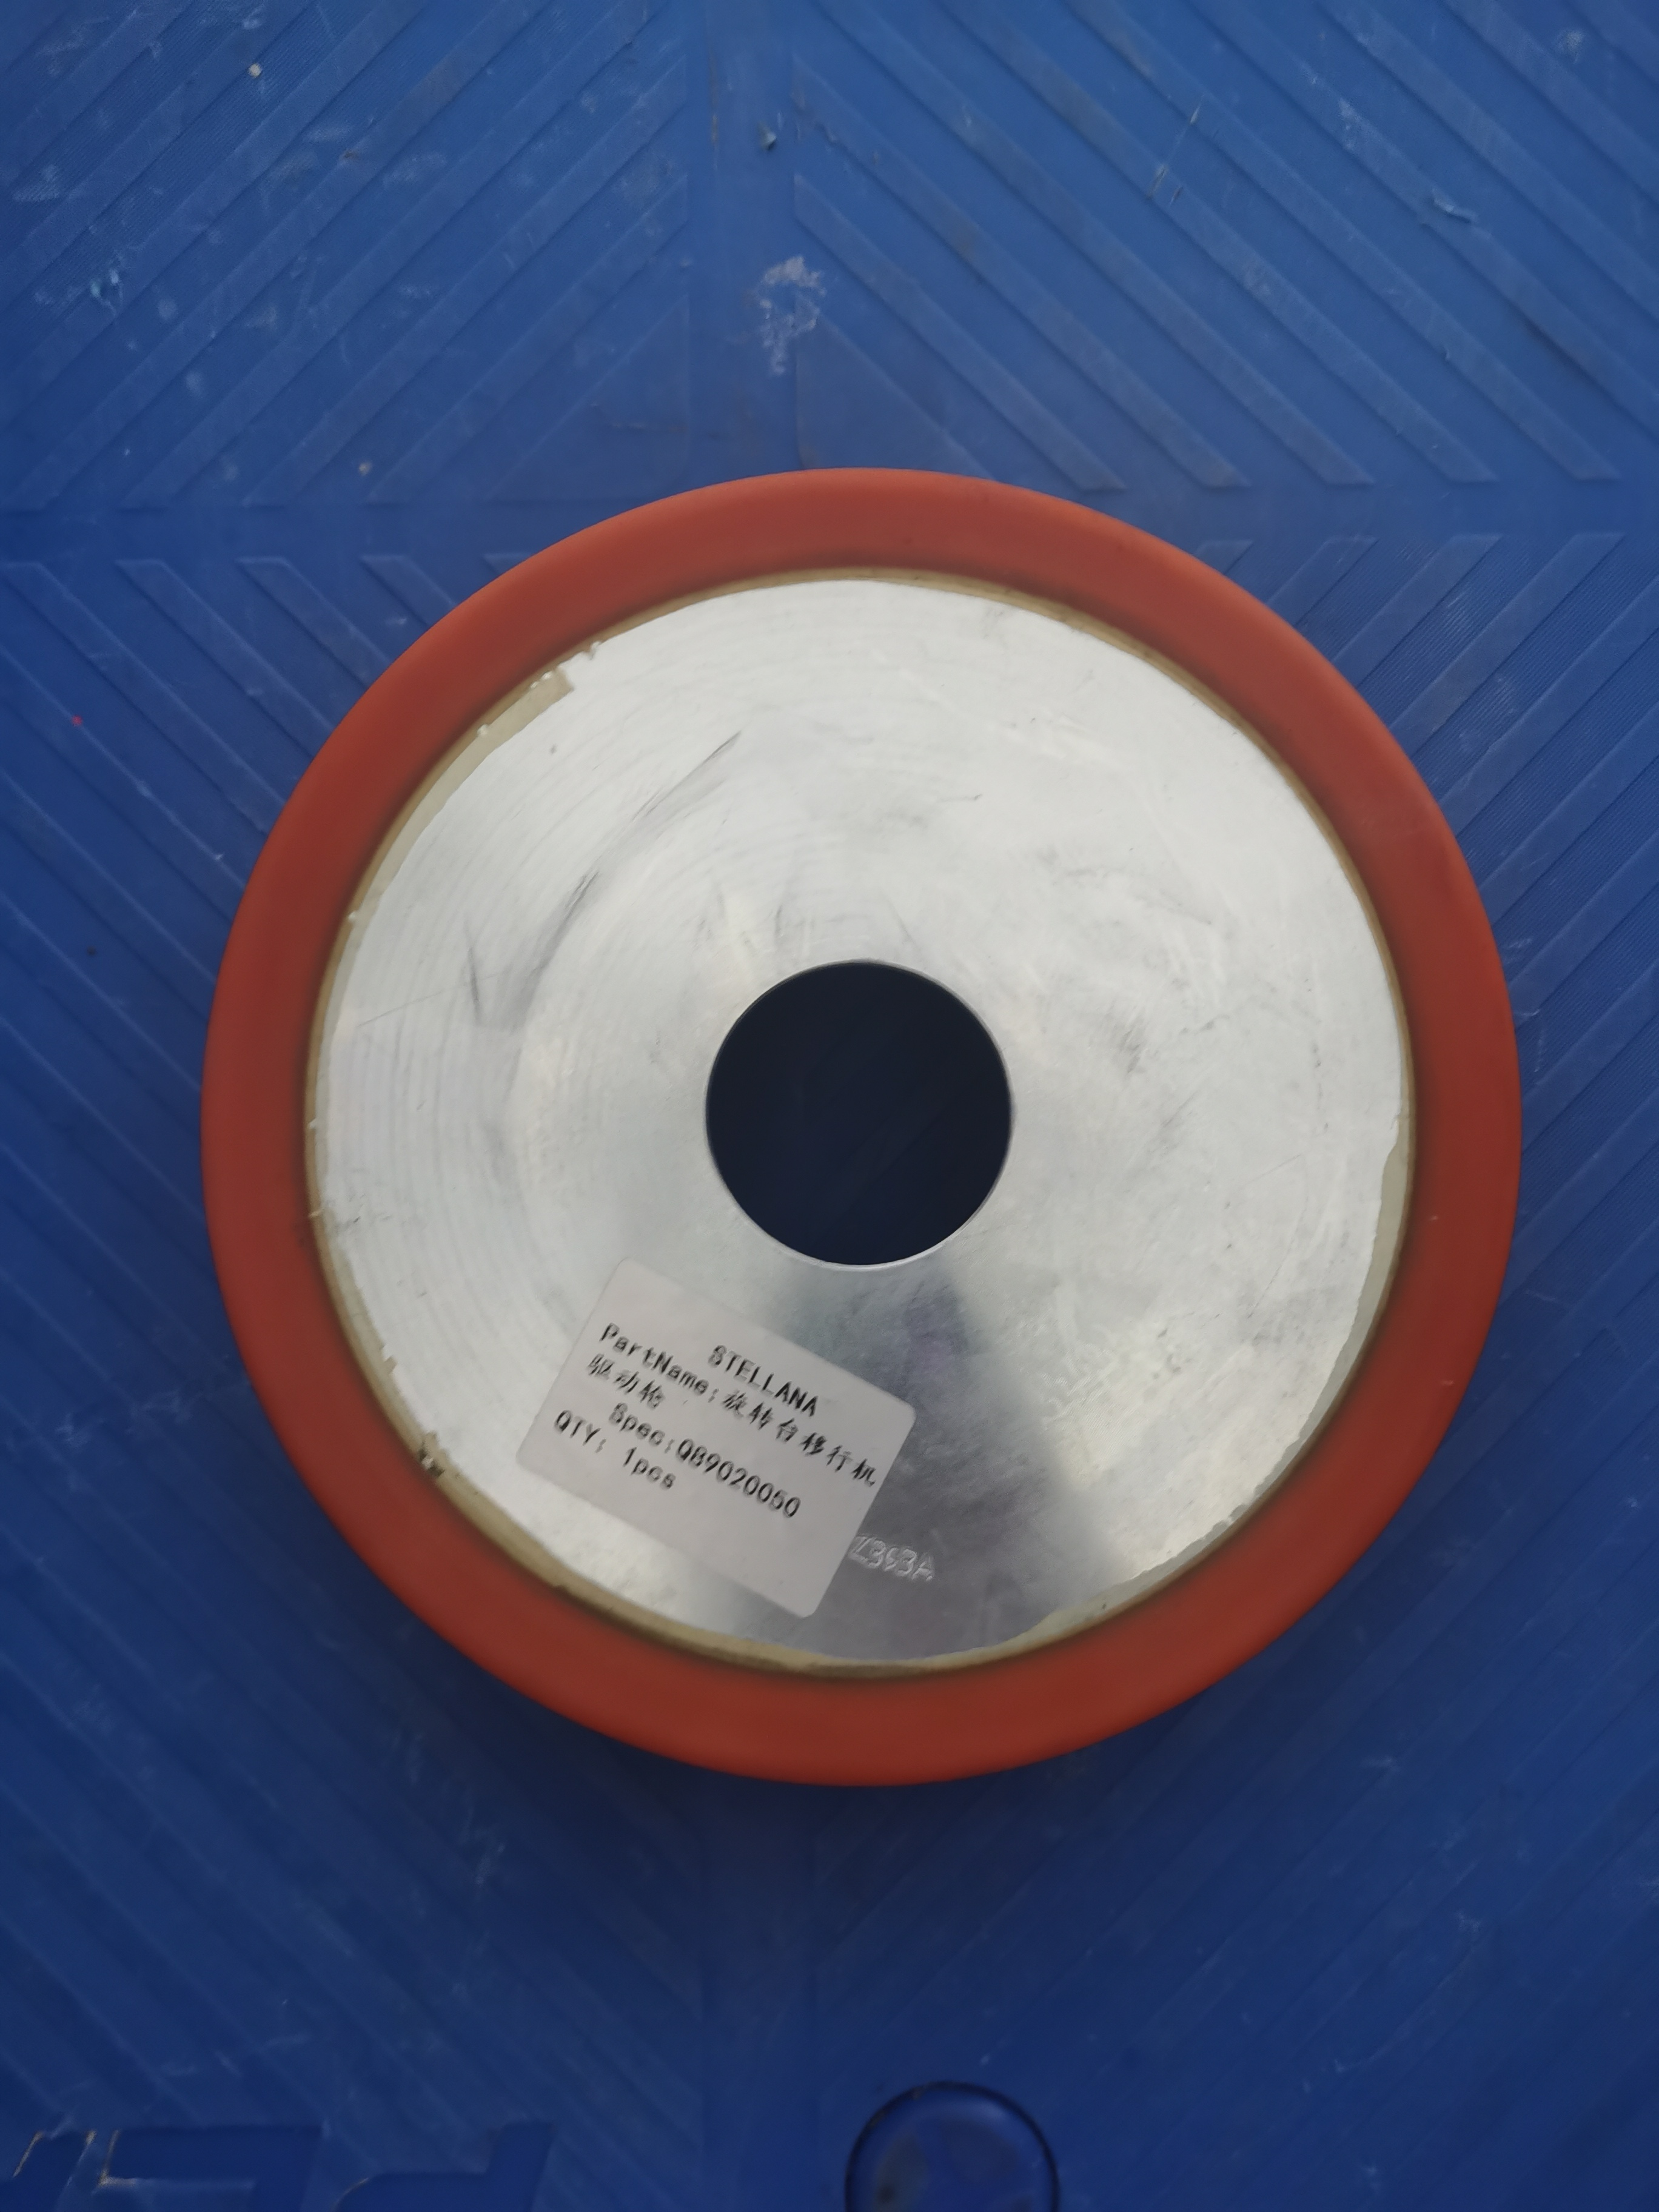good_wheel: (94, 406, 1610, 1820)
